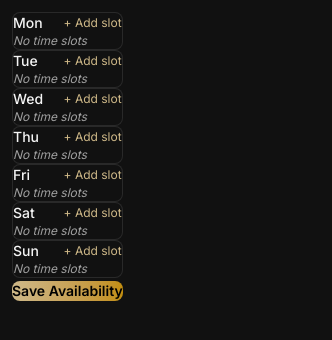
Test: AvailabilityEditor › Saving › shows generic error on non-400 failure
The image size is (332, 340).
Click the button "Save Availability": {"x": 67, "y": 291} left=12, top=281, right=123, bottom=301
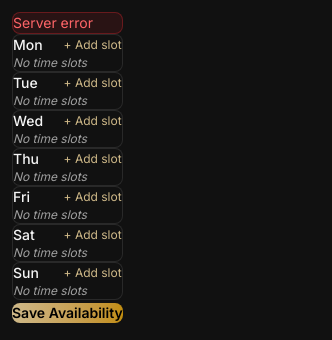
Now the text "Server error" is shown, box left=12, top=12, right=123, bottom=34
